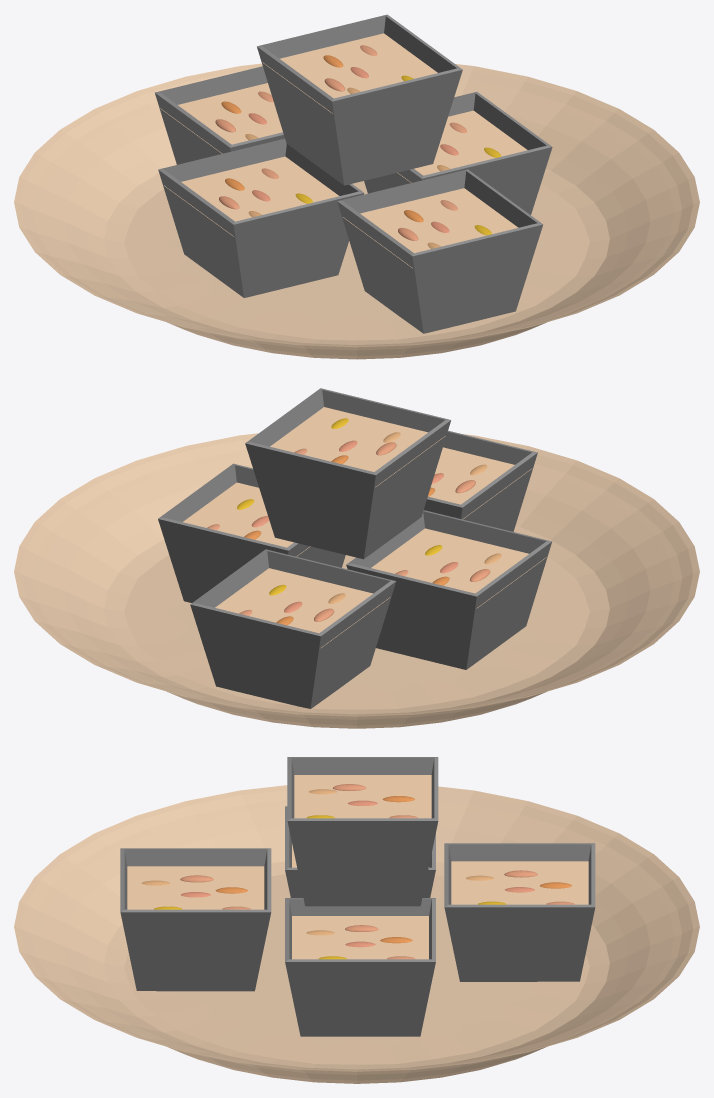
File: kue klaperart.fbx
3 views of the same model, one above another, from view 1: azimuth 30°, elevation 25°; view 2: azimuth 150°, elevation 25°; view 3: azimuth 270°, elevation 25° (orthographic).
Visible parts, largest first — view 1: Cylinder, Cube.004, Cube.003, Cube, Cube.001, Plane.004, Plane, Plane.003, Cube.002, Plane.002, Plane.001; view 2: Cylinder, Cube.004, Cube.002, Cube, Cube.001, Plane.004, Plane.002, Plane, Cube.003, Plane.001, Plane.003; view 3: Cylinder, Cube.004, Cube.003, Cube.002, Cube.001, Plane.002, Plane.003, Plane.004, Plane.001, Cube.
Boxes of the visible parts, x1,y1,x2,y2 form: Cylinder: (14,63,699,359); Cube.004: (257,14,462,185); Cube.003: (337,169,543,333); Cube: (158,138,364,297); Cube.001: (364,92,552,214); Plane.004: (262,33,437,113); Plane: (164,156,339,236); Plane.003: (343,188,518,268); Cube.002: (155,66,284,164); Plane.002: (160,83,282,153); Plane.001: (397,110,527,182); Cylinder: (14,433,699,728); Cube.004: (245,388,451,559); Cube.002: (190,549,396,708); Cube: (346,510,552,669); Cube.001: (158,463,345,602); Plane.004: (270,407,445,487); Plane.002: (215,568,390,647); Plane: (371,528,546,608); Cube.003: (424,430,537,531); Plane.001: (183,482,310,556); Plane.003: (429,447,532,519); Cylinder: (14,785,699,1083); Cube.004: (287,757,438,906); Cube.003: (120,848,271,991); Cube.002: (444,843,595,981); Cube.001: (285,898,435,1036); Plane.002: (451,861,588,904); Plane.003: (127,866,264,909); Plane.004: (294,775,431,818); Plane.001: (292,916,428,959); Cube: (285,806,435,897).
Size of the model in its own units: 231 by 74.25 by 231.
